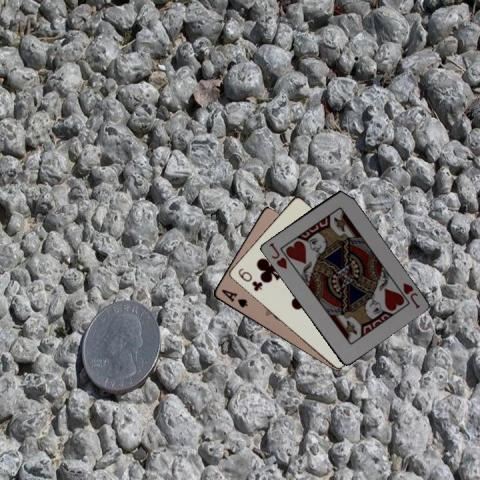6c: (235, 265, 263, 293)
As: (218, 286, 248, 309)
Jh: (266, 239, 288, 271), (400, 279, 422, 310)
